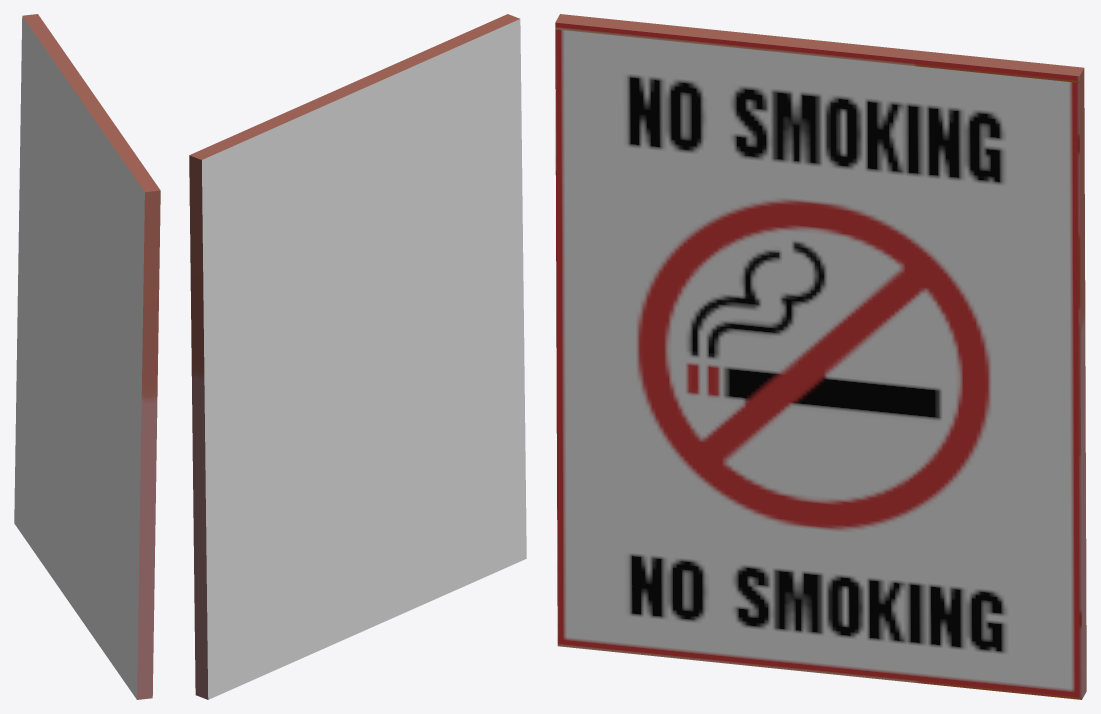
Rendered from TianZhuJiaoTang_01_jinzhixiyan_01.FBX.
The picture shows the model from 3 angles, left to right: view 1: azimuth 30°, elevation 25°; view 2: azimuth 150°, elevation 25°; view 3: azimuth 270°, elevation 25°; orthographic projection. The views are drawn at different scales.
Parts seen in each view (by area): view 1: TianZhuJiaoTang_01_jinzhixiyan_01; view 2: TianZhuJiaoTang_01_jinzhixiyan_01; view 3: TianZhuJiaoTang_01_jinzhixiyan_01.
Boxes of the visible parts, bbox=[...] form: TianZhuJiaoTang_01_jinzhixiyan_01: bbox=[14, 14, 160, 699]; TianZhuJiaoTang_01_jinzhixiyan_01: bbox=[189, 14, 526, 699]; TianZhuJiaoTang_01_jinzhixiyan_01: bbox=[555, 14, 1086, 699].
Size of the model in its own units: 61.84 by 273 by 210.
